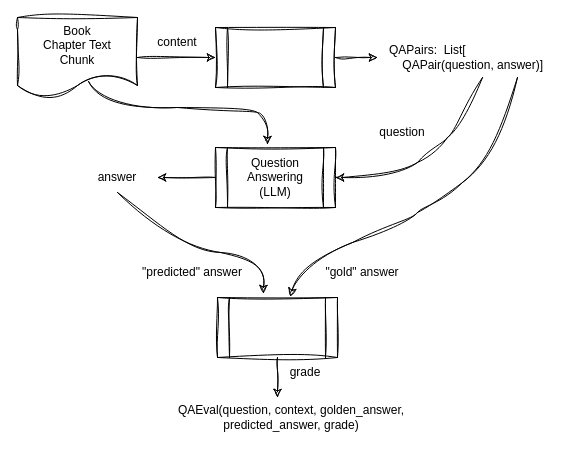
Some shapes in this 575 by 449 pixel diagram are drawn without their labels. The shapes that lost their labels are listed below. From the top down, each one's box as (x1, y1, x2, y2) in pixels, then its label:
(214, 26, 336, 88): Question Generation (LLM)
(216, 296, 338, 358): Question Generation Evaluation (LLM)
